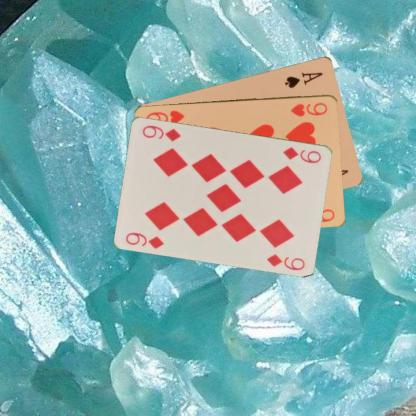9d: (280, 144, 323, 164), (123, 230, 165, 250)
9h: (288, 100, 329, 118)
As: (282, 69, 324, 89)
